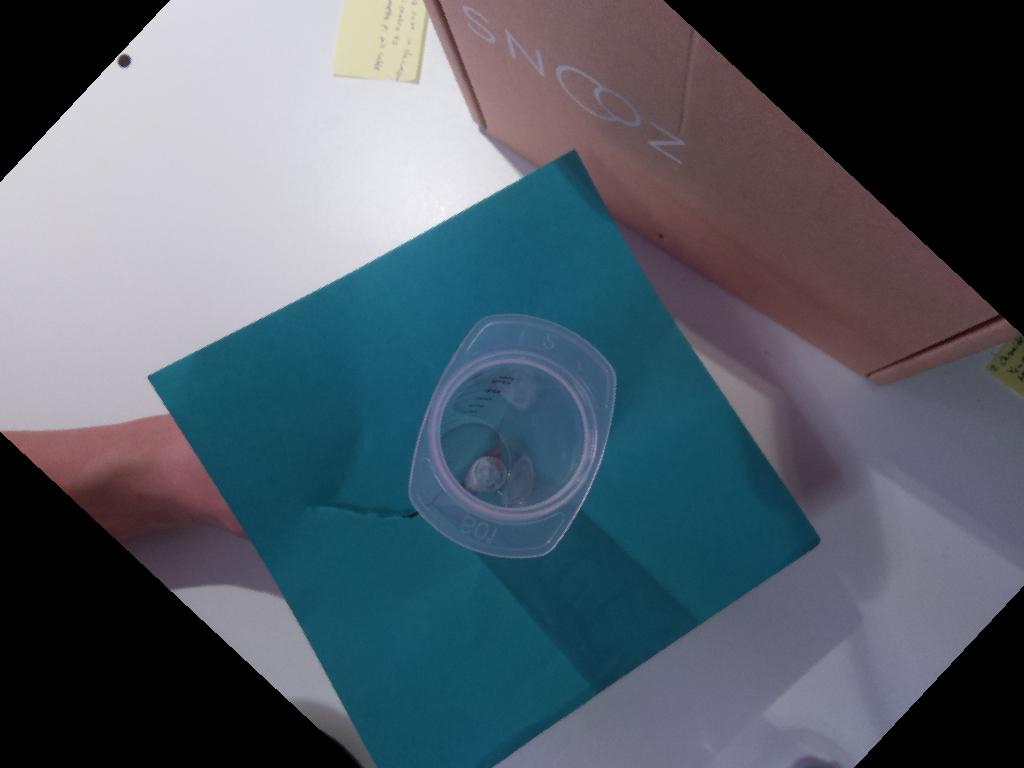clean: (407, 311, 617, 560)
